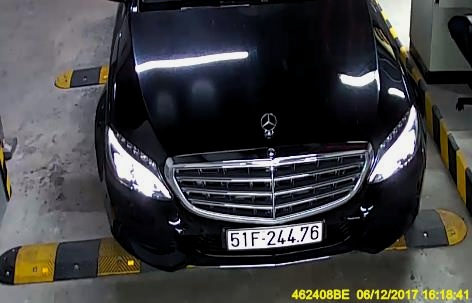plate: (226, 223, 322, 250)
